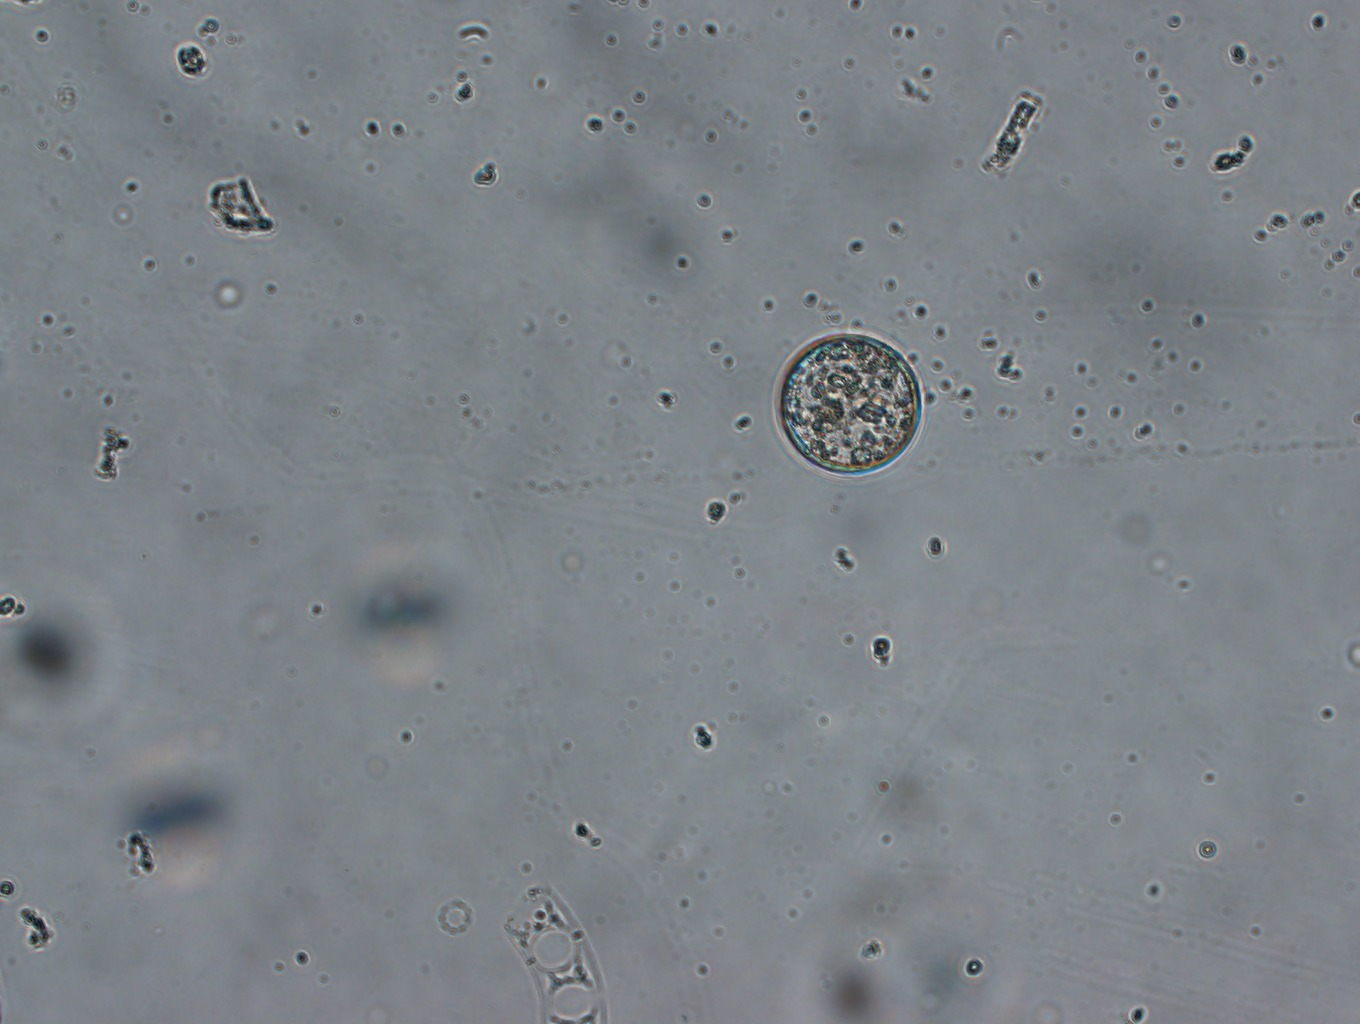coscinodiscus: (776, 335, 921, 475)
eucampia: (496, 878, 613, 1024)
